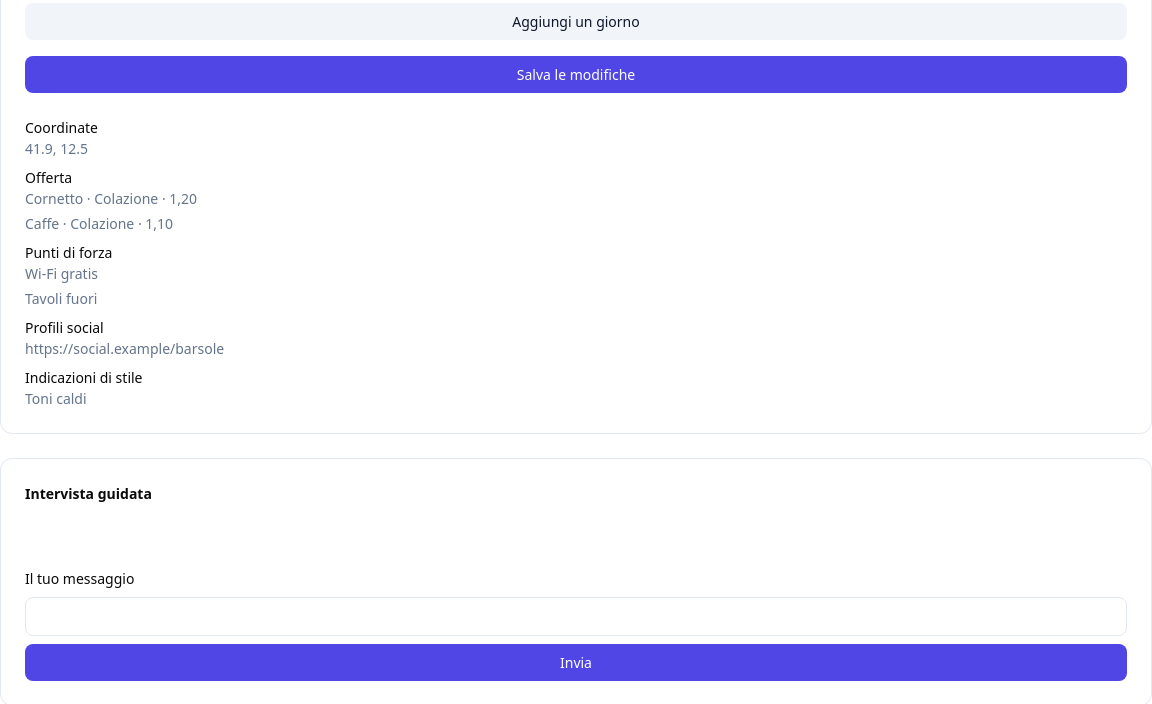
Test case: T-151 ChatPanel: turni assistente/utente › invio di un turno: il messaggio utente e il testo assistente sono resi entrambi
This screenshot has width=1152, height=704.
(page scrolled)
Step 1. Type "Ho un bar a Roma" into the field labelled "Il tuo messaggio" → (576, 616), box [25,597,1127,636]
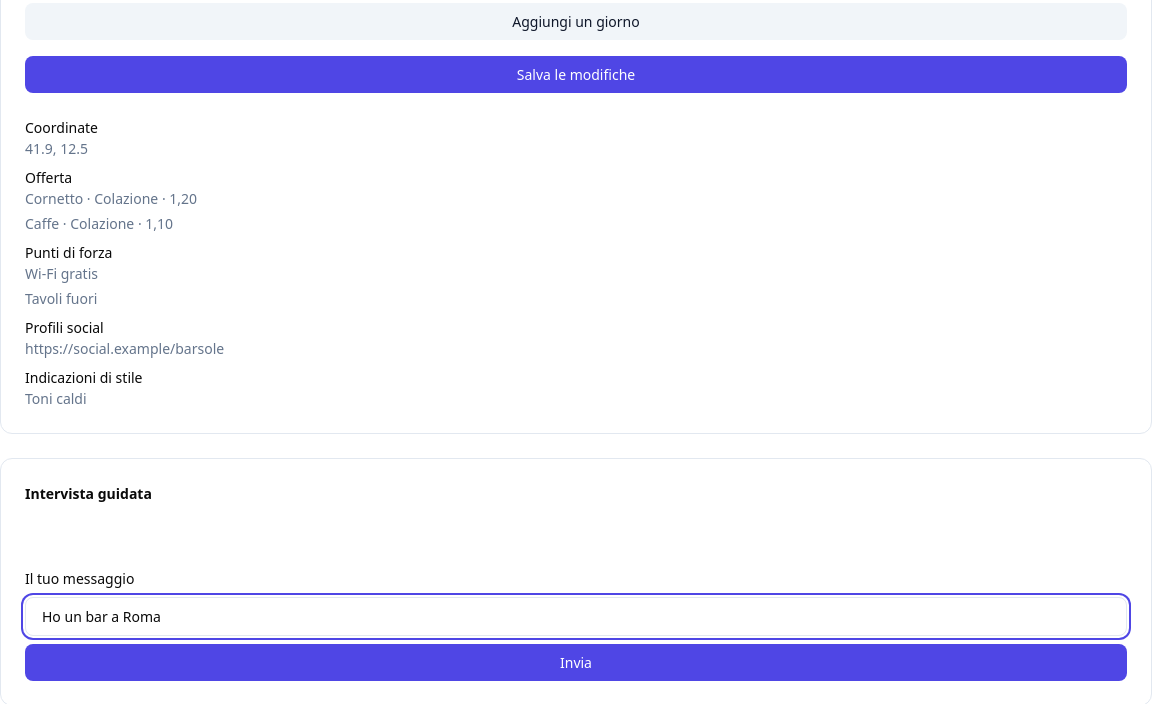
Step 2. Click the button "Invia" → (576, 662), box [25,644,1127,681]
(page scrolled)
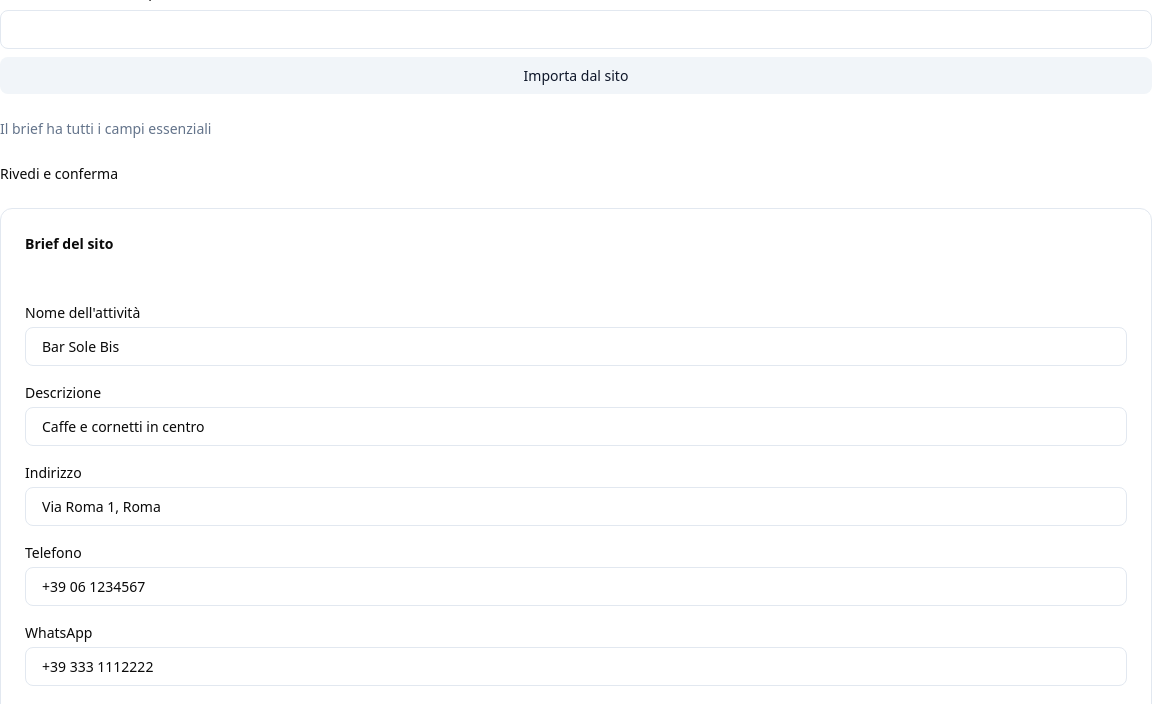
Expected: the field labelled "Nome dell'attività" holds "Bar Sole Bis", [25,327,1127,366]
